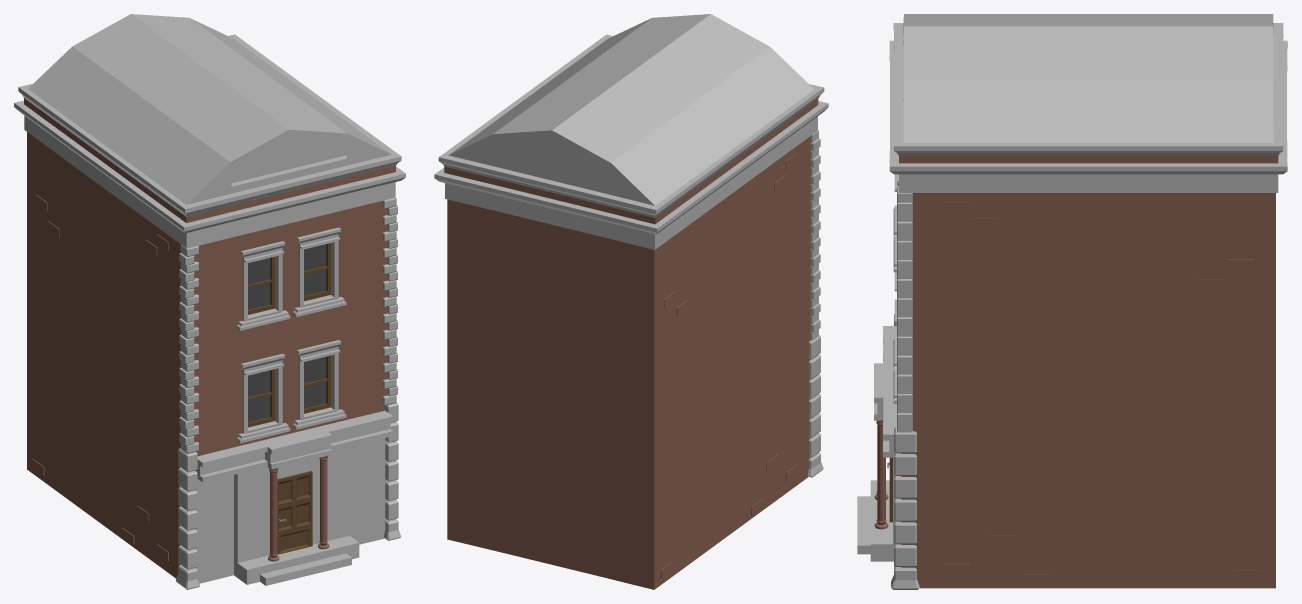
File: Building3_Small.glb
3 views of the same model, side by side, from view 1: azimuth 30°, elevation 25°; view 2: azimuth 150°, elevation 25°; view 3: azimuth 270°, elevation 25° (orthographic). The views are drawn at different scales.
Visible parts, largest first — view 1: Building3_Small_1, Building3_Small_0, Building3_Small_3, Building3_Small_2; view 2: Building3_Small_0, Building3_Small_1; view 3: Building3_Small_0, Building3_Small_1.
Part boxes in pixels (bbox=[...]): Building3_Small_1: bbox=[14, 14, 405, 589]; Building3_Small_0: bbox=[24, 98, 395, 578]; Building3_Small_3: bbox=[248, 243, 330, 554]; Building3_Small_2: bbox=[248, 244, 326, 422]; Building3_Small_0: bbox=[444, 99, 818, 589]; Building3_Small_1: bbox=[434, 14, 828, 477]; Building3_Small_0: bbox=[874, 156, 1278, 588]; Building3_Small_1: bbox=[857, 14, 1287, 589].
Size of the model in its own units: 3.05 by 5.68 by 4.4.
